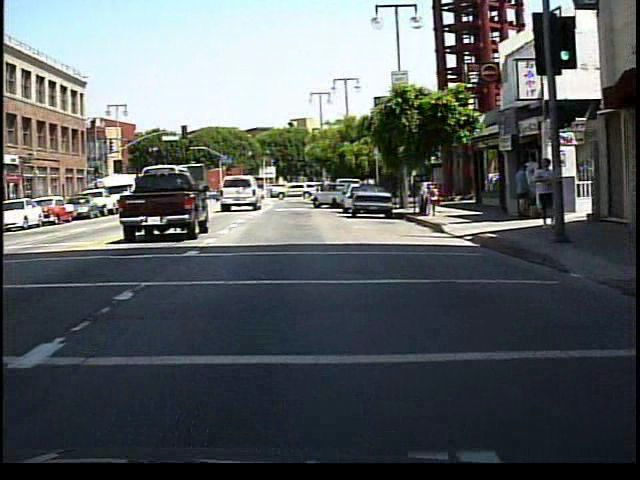person: (529, 157, 554, 231), (511, 161, 526, 222)
